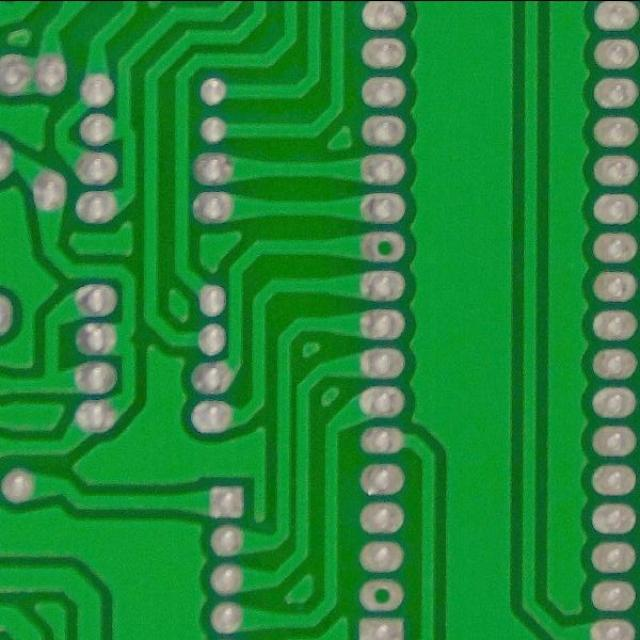Missing_Hole: (352, 573, 411, 616), (355, 226, 412, 267)
